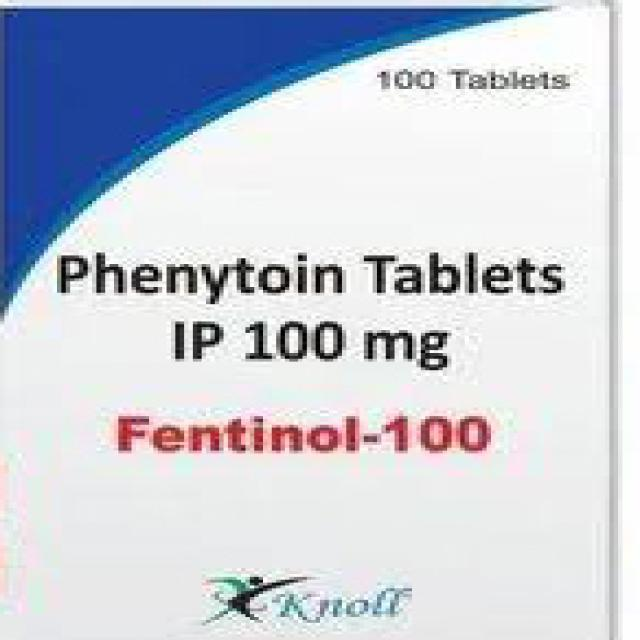drug-name: (115, 404, 495, 458)
